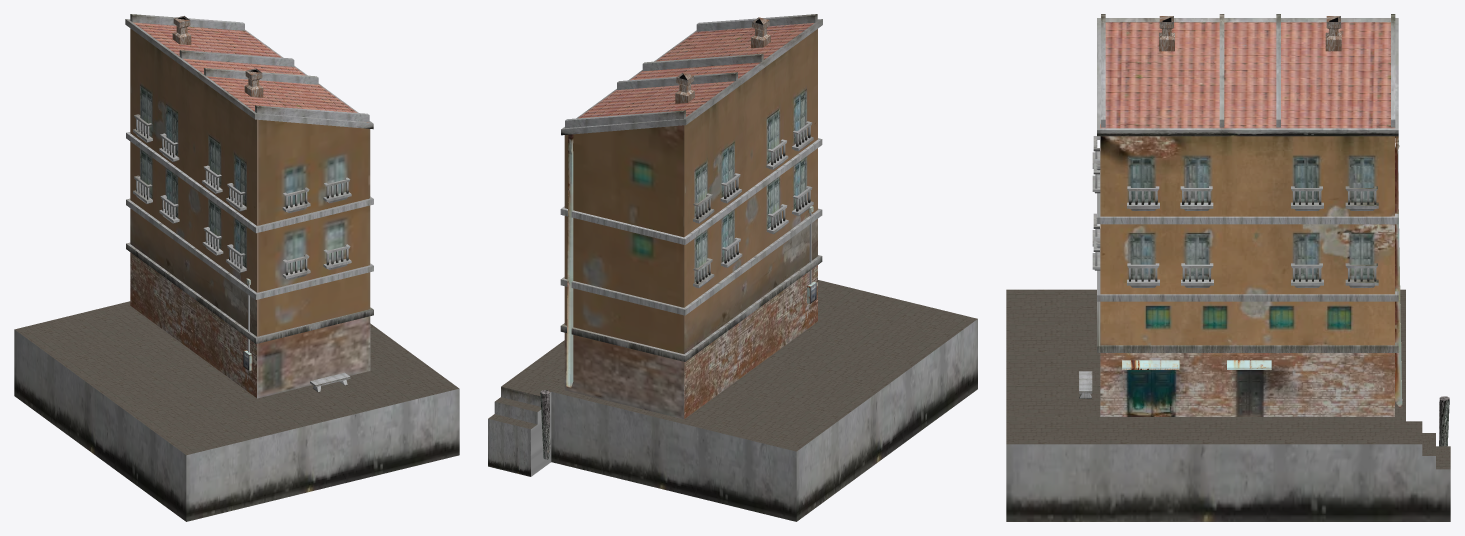
Rendered from BLD_AquHouseB_lod.glb.
The picture shows the model from 3 angles, left to right: view 1: azimuth 30°, elevation 25°; view 2: azimuth 150°, elevation 25°; view 3: azimuth 270°, elevation 25°; orthographic projection. The views are drawn at different scales.
Visible parts, largest first — view 1: polySurface120_lambert27_0, polySurface107_lambert13_0, polySurface107_lambert29_0, polySurface120_lambert15_0, polySurface4_lambert21_0, polySurface1_lambert25_0, polySurface120_lambert14_0, polySurface92_lambert32_0; view 2: polySurface107_lambert13_0, polySurface120_lambert27_0, polySurface120_lambert16_0, polySurface107_lambert29_0, polySurface4_lambert21_0, polySurface120_lambert14_0, polySurface1_lambert25_0, polySurface96_lambert17_0, polySurface107_lambert30_0, polySurface92_lambert32_0, polySurface160_lambert35_0; view 3: polySurface120_lambert8_0, polySurface107_lambert13_0, polySurface120_lambert14_0, polySurface107_lambert29_0, polySurface4_lambert21_0, polySurface1_lambert25_0, polySurface96_lambert17_0, polySurface107_lambert30_0, polySurface79_lambert23_0, polySurface92_lambert32_0, polySurface160_lambert35_0.
Part boxes in pixels (<box>): polySurface120_lambert27_0: <box>130,28,256,397</box>; polySurface107_lambert13_0: <box>14,329,459,521</box>; polySurface107_lambert29_0: <box>15,301,458,455</box>; polySurface120_lambert15_0: <box>257,119,370,398</box>; polySurface4_lambert21_0: <box>125,19,373,343</box>; polySurface1_lambert25_0: <box>130,14,369,392</box>; polySurface120_lambert14_0: <box>133,22,368,122</box>; polySurface92_lambert32_0: <box>172,16,263,97</box>; polySurface107_lambert13_0: <box>488,319,977,521</box>; polySurface120_lambert27_0: <box>684,29,817,418</box>; polySurface120_lambert16_0: <box>564,125,684,419</box>; polySurface107_lambert29_0: <box>509,280,977,451</box>; polySurface4_lambert21_0: <box>560,19,822,361</box>; polySurface120_lambert14_0: <box>578,23,813,118</box>; polySurface1_lambert25_0: <box>565,14,817,288</box>; polySurface96_lambert17_0: <box>566,134,816,388</box>; polySurface107_lambert30_0: <box>488,381,550,429</box>; polySurface92_lambert32_0: <box>675,17,770,103</box>; polySurface160_lambert35_0: <box>540,390,550,459</box>; polySurface120_lambert8_0: <box>1100,136,1394,416</box>; polySurface107_lambert13_0: <box>1006,444,1450,521</box>; polySurface120_lambert14_0: <box>1100,22,1394,128</box>; polySurface107_lambert29_0: <box>1006,289,1405,444</box>; polySurface4_lambert21_0: <box>1095,18,1398,352</box>; polySurface1_lambert25_0: <box>1079,14,1395,398</box>; polySurface96_lambert17_0: <box>1395,136,1402,407</box>; polySurface107_lambert30_0: <box>1406,421,1450,469</box>; polySurface79_lambert23_0: <box>1122,360,1271,369</box>; polySurface92_lambert32_0: <box>1159,16,1341,51</box>; polySurface160_lambert35_0: <box>1439,396,1449,446</box>.
Bounding box in the file's own units: 15.23 × 19.51 × 18.46.
18 materials, 16 textured.
